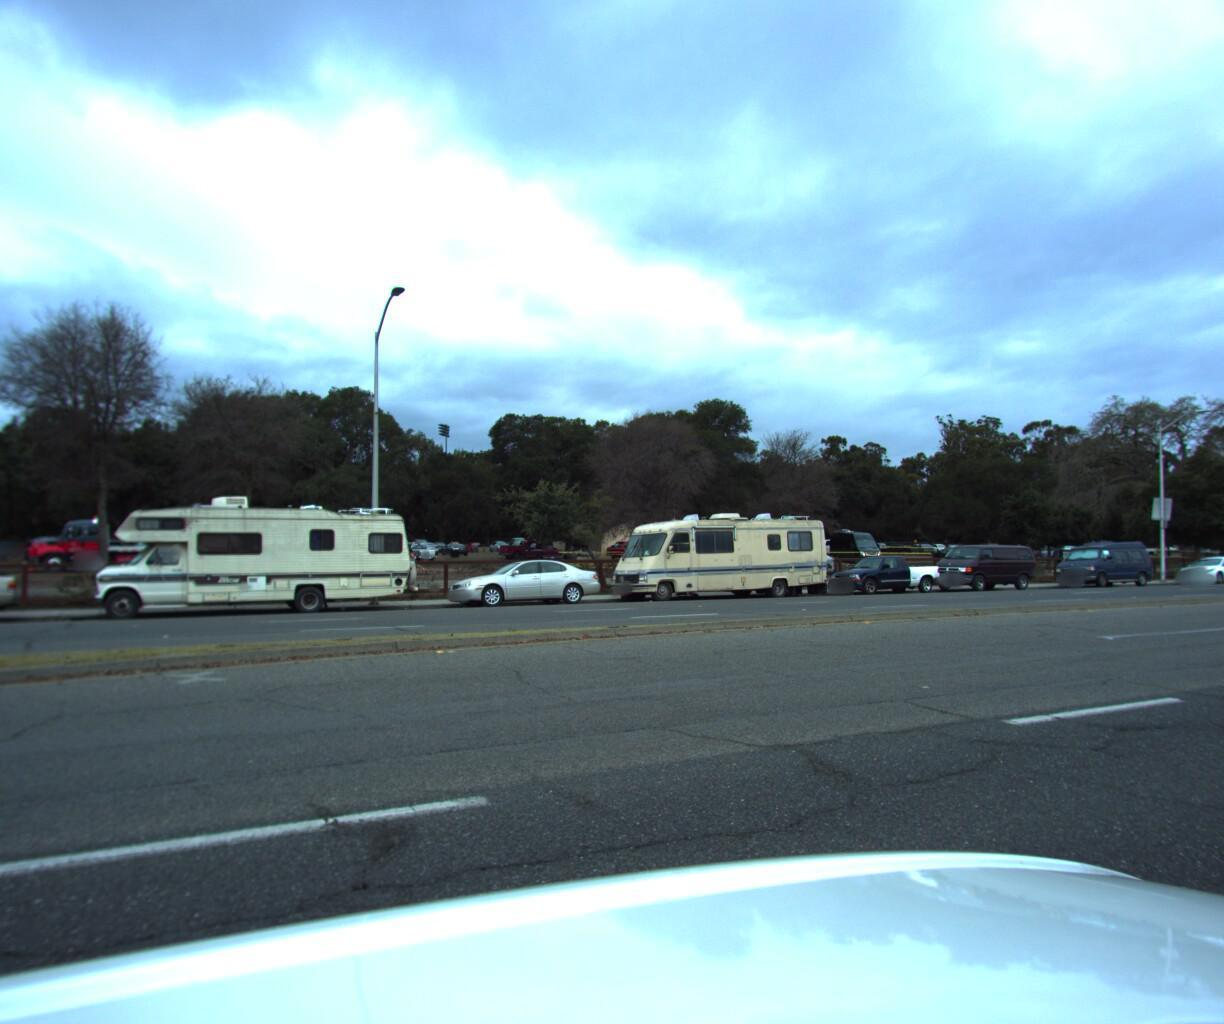car: (435, 553, 604, 606), (922, 538, 1037, 588), (823, 549, 943, 595), (1043, 538, 1151, 584), (1164, 550, 1224, 580), (1220, 541, 1224, 577)
other_vehicle: (87, 487, 424, 623), (600, 504, 835, 602)
